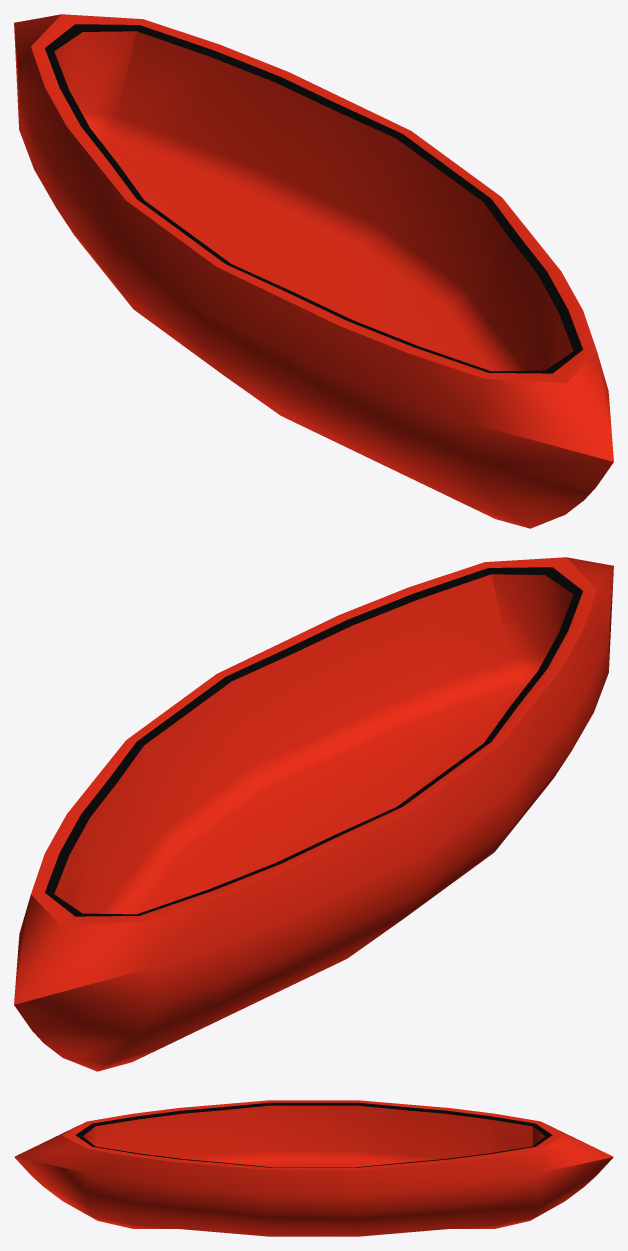
File: kayak.fbx
3 renders of one model, top to bottom at view 1: azimuth 30°, elevation 25°; view 2: azimuth 150°, elevation 25°; view 3: azimuth 270°, elevation 25°, orthographic. The views are drawn at different scales.
Parts seen in each view (by area): view 1: boat; view 2: boat; view 3: boat.
Part boxes in pixels (bbox=[...]): boat: bbox=[14, 14, 613, 528]; boat: bbox=[14, 557, 613, 1071]; boat: bbox=[14, 1100, 613, 1236].
Bounding box in the file's own units: 392 × 228 × 1322.
